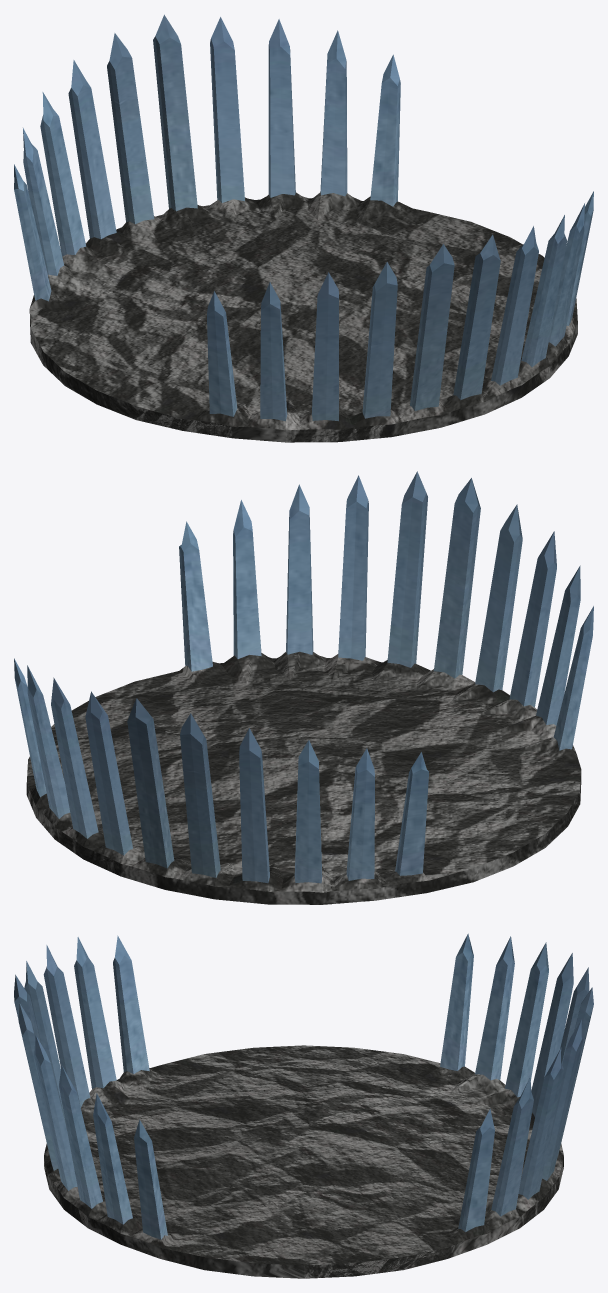
The model's file is endingAlter.fbx.
3 views of the same model, one above another, from view 1: azimuth 30°, elevation 25°; view 2: azimuth 150°, elevation 25°; view 3: azimuth 270°, elevation 25° (orthographic). The views are drawn at different scales.
Parts seen in each view (by area): view 1: Circle; view 2: Circle; view 3: Circle.
Boxes of the visible parts, box(x1,y1,x2,y2) form: Circle: box(14, 14, 593, 442); Circle: box(14, 471, 593, 904); Circle: box(14, 933, 593, 1278).
Bounding box in the file's own units: 784 × 313 × 873.
2 materials, 2 textured.
